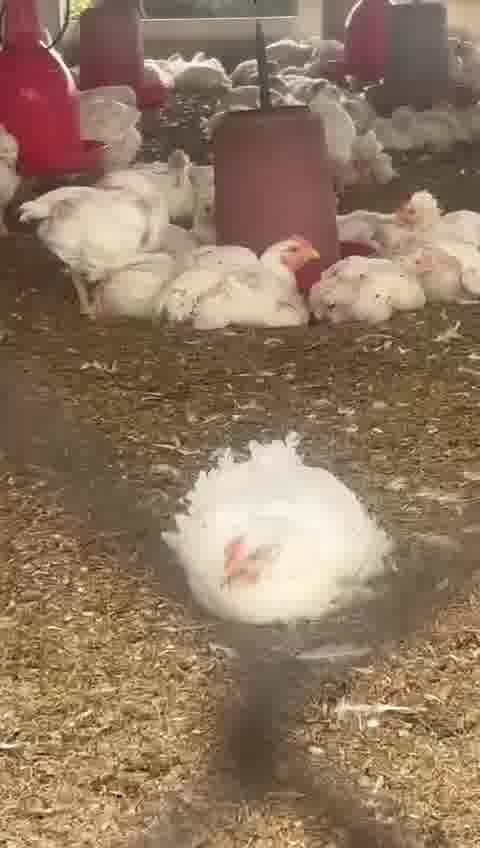AbNormal: (169, 449, 395, 621), (29, 177, 170, 306), (164, 237, 322, 332), (394, 192, 480, 297)
